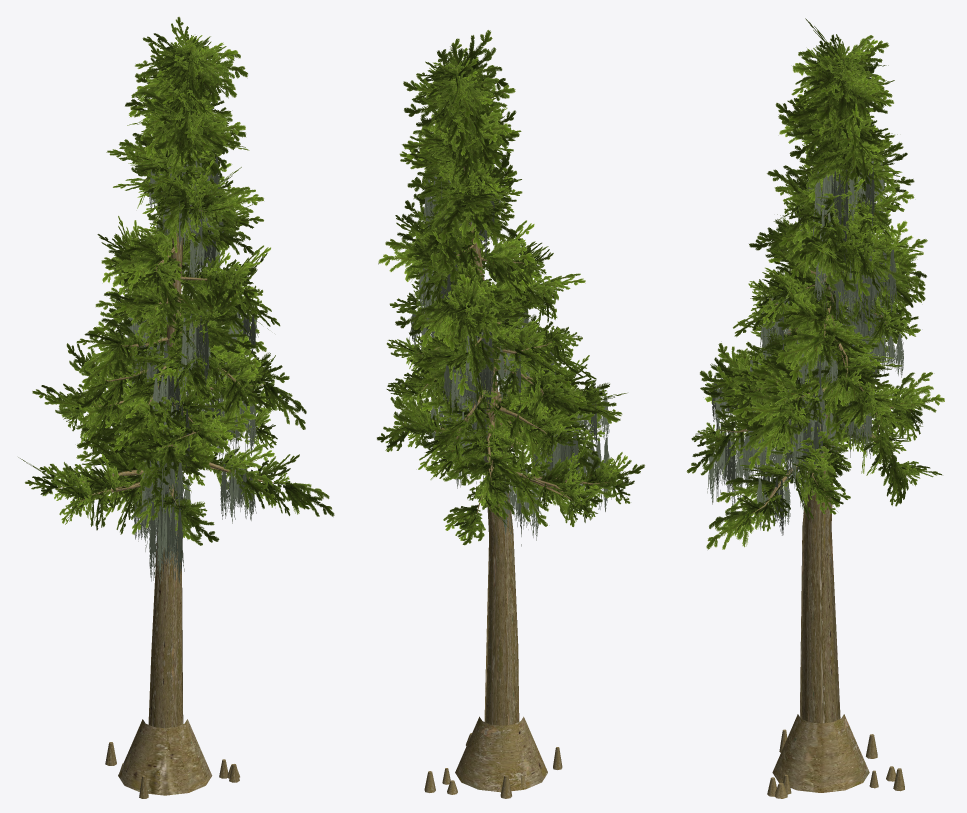
File: tree_bald_cypress.glb
3 views of the same model, side by side, from view 1: azimuth 30°, elevation 25°; view 2: azimuth 150°, elevation 25°; view 3: azimuth 270°, elevation 25° (orthographic). The views are drawn at different scales.
Parts seen in each view (by area): view 1: LOD1_leaves, LOD0_leaves, LOD0_moss, LOD0_trunk, LOD1_moss, LOD0_knees, LOD1_knees, LOD1_trunk; view 2: LOD1_leaves, LOD0_leaves, LOD0_trunk, LOD0_moss, LOD1_knees, LOD0_knees, LOD1_trunk, LOD1_moss; view 3: LOD1_leaves, LOD0_leaves, LOD0_moss, LOD0_trunk, LOD1_knees, LOD1_moss, LOD0_knees, LOD1_trunk.
Part boxes in pixels (x1=…): LOD1_leaves: x1=18, y1=17, x2=334, y2=545; LOD0_leaves: x1=25, y1=33, x2=311, y2=527; LOD0_moss: x1=127, y1=149, x2=253, y2=582; LOD0_trunk: x1=55, y1=168, x2=274, y2=728; LOD1_moss: x1=133, y1=166, x2=258, y2=583; LOD0_knees: x1=105, y1=719, x2=239, y2=798; LOD1_knees: x1=118, y1=723, x2=212, y2=795; LOD1_trunk: x1=82, y1=165, x2=273, y2=727; LOD1_leaves: x1=377, y1=30, x2=644, y2=545; LOD0_leaves: x1=385, y1=51, x2=630, y2=540; LOD0_trunk: x1=417, y1=166, x2=609, y2=725; LOD0_moss: x1=409, y1=176, x2=611, y2=546; LOD1_knees: x1=455, y1=723, x2=547, y2=792; LOD0_knees: x1=424, y1=716, x2=562, y2=798; LOD1_trunk: x1=419, y1=254, x2=607, y2=724; LOD1_moss: x1=416, y1=201, x2=601, y2=540; LOD1_leaves: x1=686, y1=18, x2=944, y2=549; LOD0_leaves: x1=691, y1=34, x2=924, y2=537; LOD0_moss: x1=709, y1=157, x2=903, y2=535; LOD0_trunk: x1=717, y1=205, x2=893, y2=723; LOD1_knees: x1=772, y1=719, x2=868, y2=792; LOD1_moss: x1=707, y1=204, x2=877, y2=524; LOD0_knees: x1=767, y1=714, x2=904, y2=798; LOD1_trunk: x1=724, y1=59, x2=893, y2=723.
Size of the model in its own units: 6.49 by 18.43 by 5.97.
Materials: 3 (3 with a texture image).
